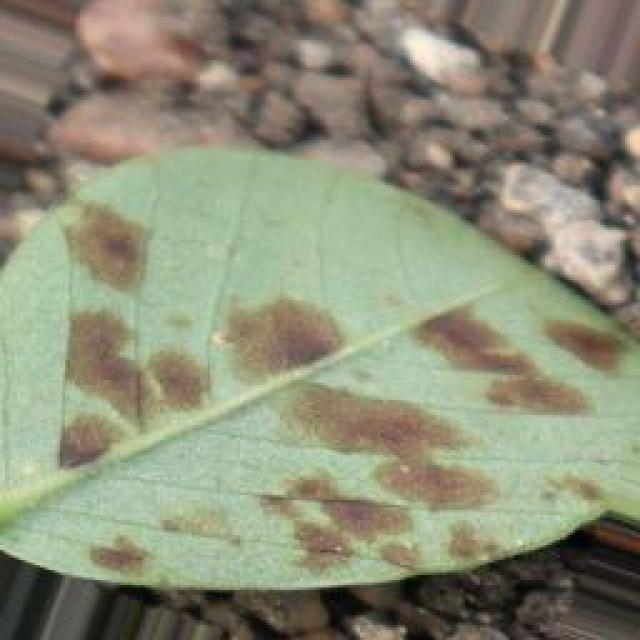Whitefly: (6, 161, 640, 640)
